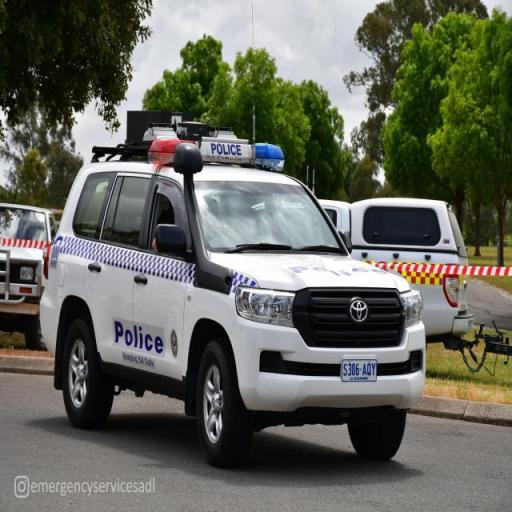Ambulance: (48, 114, 431, 464)
